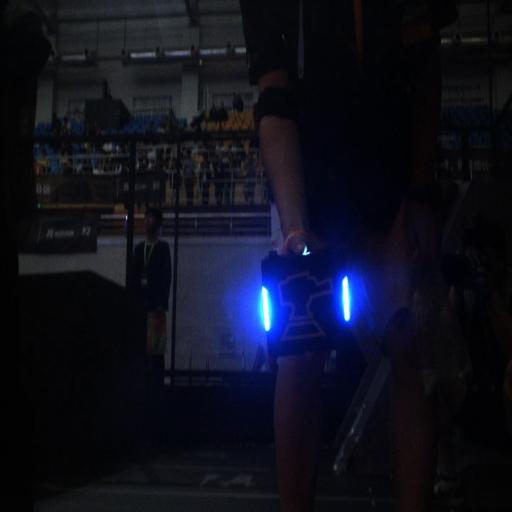target: (258, 249, 356, 358)
